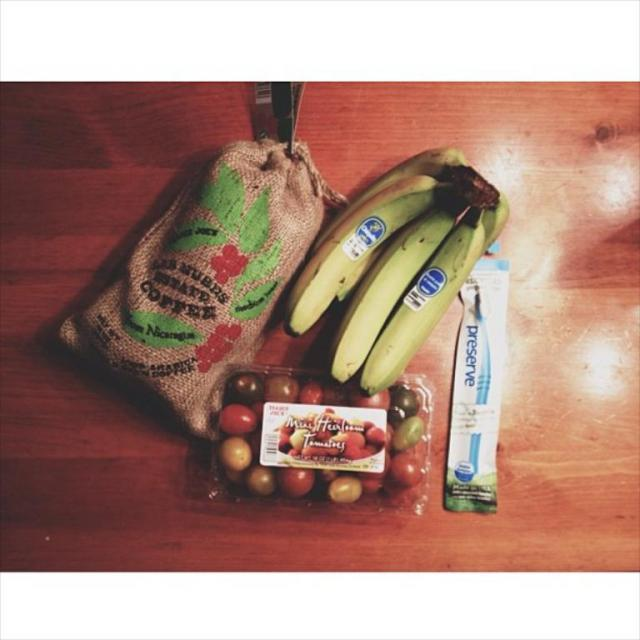Banana: (255, 150, 498, 398)
